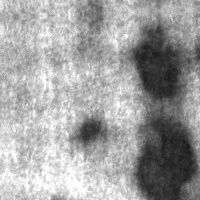patches: (133, 115, 198, 199), (131, 24, 182, 101), (75, 117, 103, 144)
